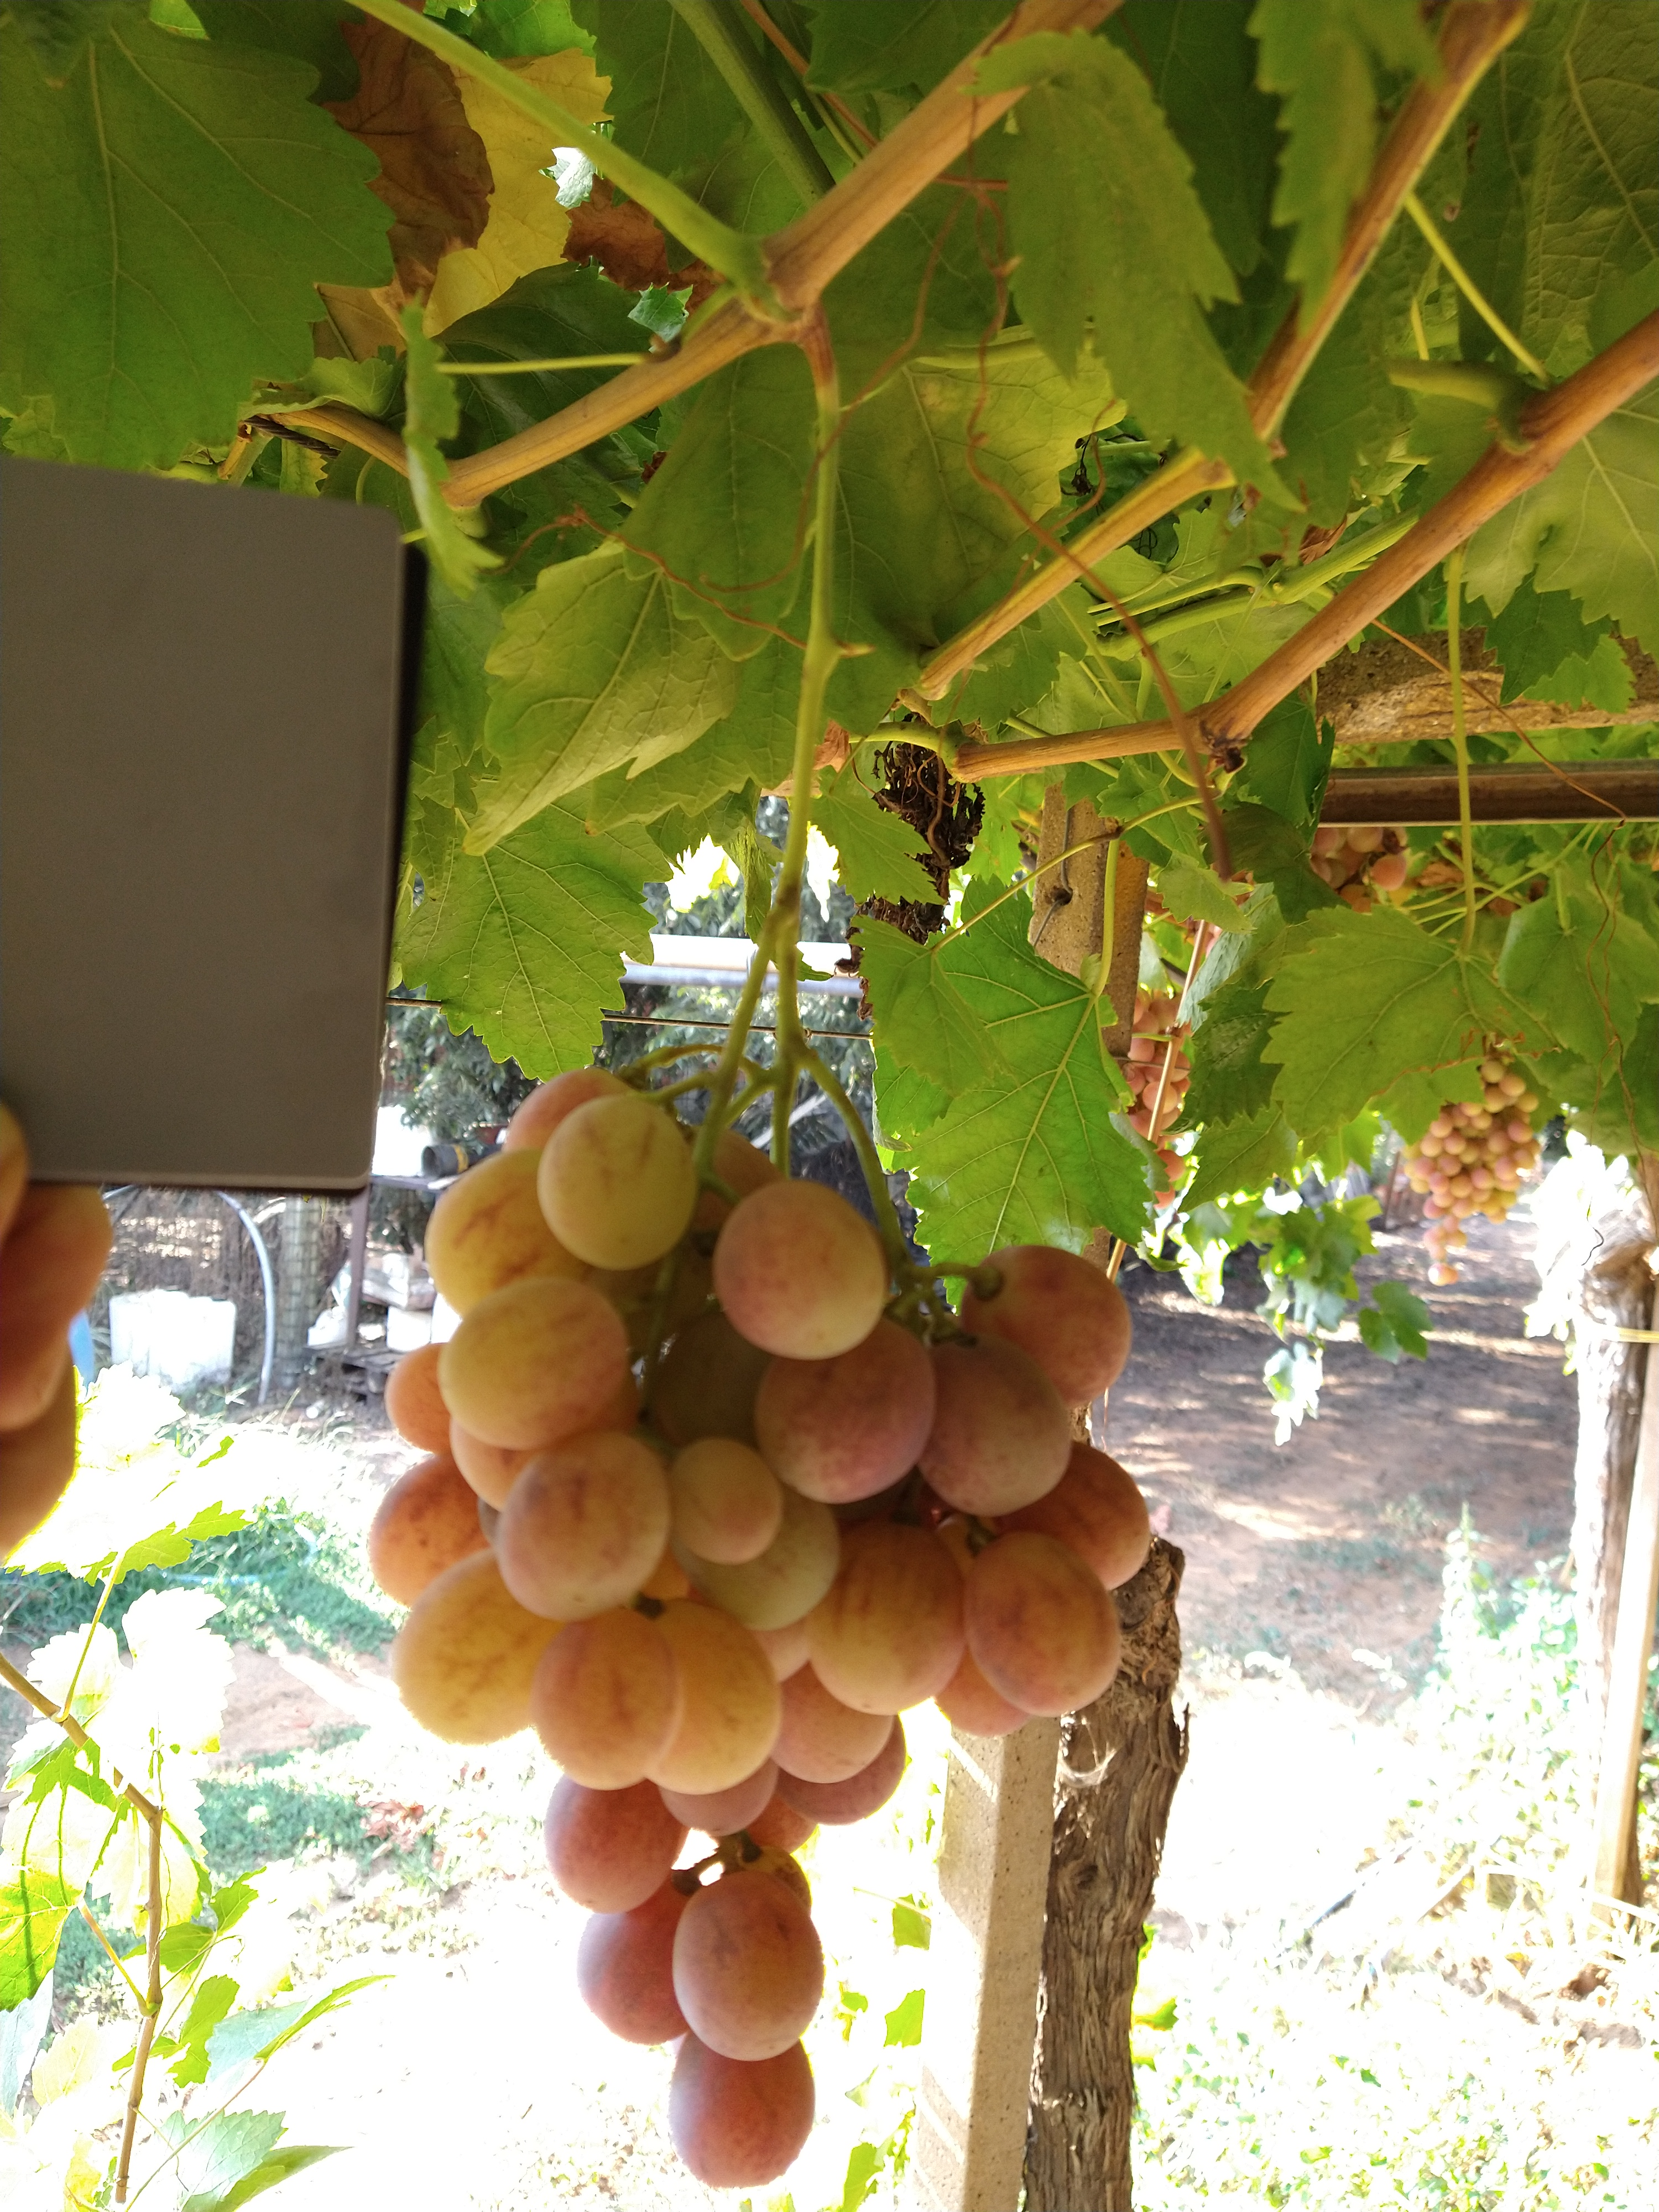acino: (495, 1432, 674, 1629), (755, 1313, 936, 1507), (437, 1271, 627, 1453), (803, 1517, 967, 1719), (708, 1179, 887, 1360), (528, 1090, 701, 1271), (962, 1531, 1122, 1717), (953, 1244, 1133, 1407), (422, 1148, 591, 1318), (917, 1334, 1073, 1517), (532, 1604, 685, 1789), (673, 1874, 824, 2059), (394, 1548, 537, 1740), (648, 1604, 786, 1799), (664, 2040, 814, 2189), (542, 1770, 688, 1914), (1011, 1447, 1152, 1595), (575, 1876, 680, 2048), (371, 1458, 484, 1606), (662, 1435, 786, 1562), (767, 1665, 896, 1784), (383, 1338, 453, 1456), (936, 1658, 1032, 1740)
